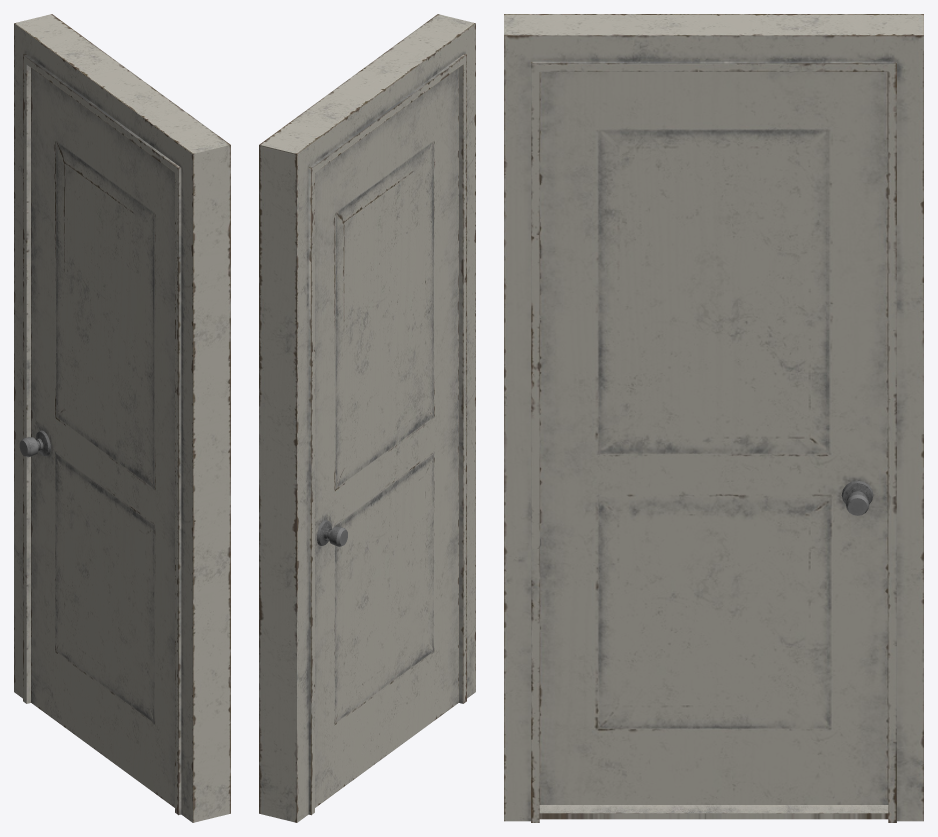
File: door.glb
3 renders of one model, left to right at view 1: azimuth 30°, elevation 25°; view 2: azimuth 150°, elevation 25°; view 3: azimuth 270°, elevation 25°, orthographic. The views are drawn at different scales.
Parts seen in each view (by area): view 1: Door.002, Door; view 2: Door.002, Door; view 3: Door.002, Door.
Part boxes in pixels (x1=…): Door.002: x1=19, y1=68, x2=174, y2=807; Door: x1=14, y1=14, x2=230, y2=822; Door.002: x1=315, y1=68, x2=458, y2=807; Door: x1=259, y1=14, x2=475, y2=822; Door.002: x1=539, y1=72, x2=888, y2=804; Door: x1=504, y1=14, x2=923, y2=822.
Size of the model in its own units: 0.2067 by 2.22 by 1.08.
1 material, 1 textured.
